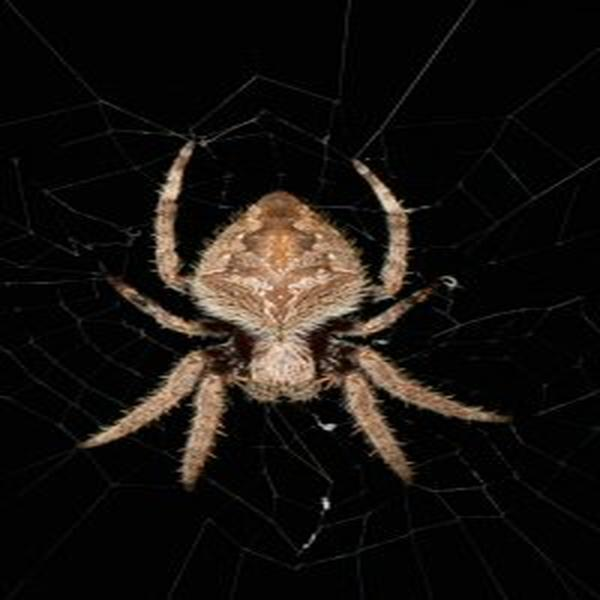Garden Orb Weaver Spider: (96, 147, 491, 472)
